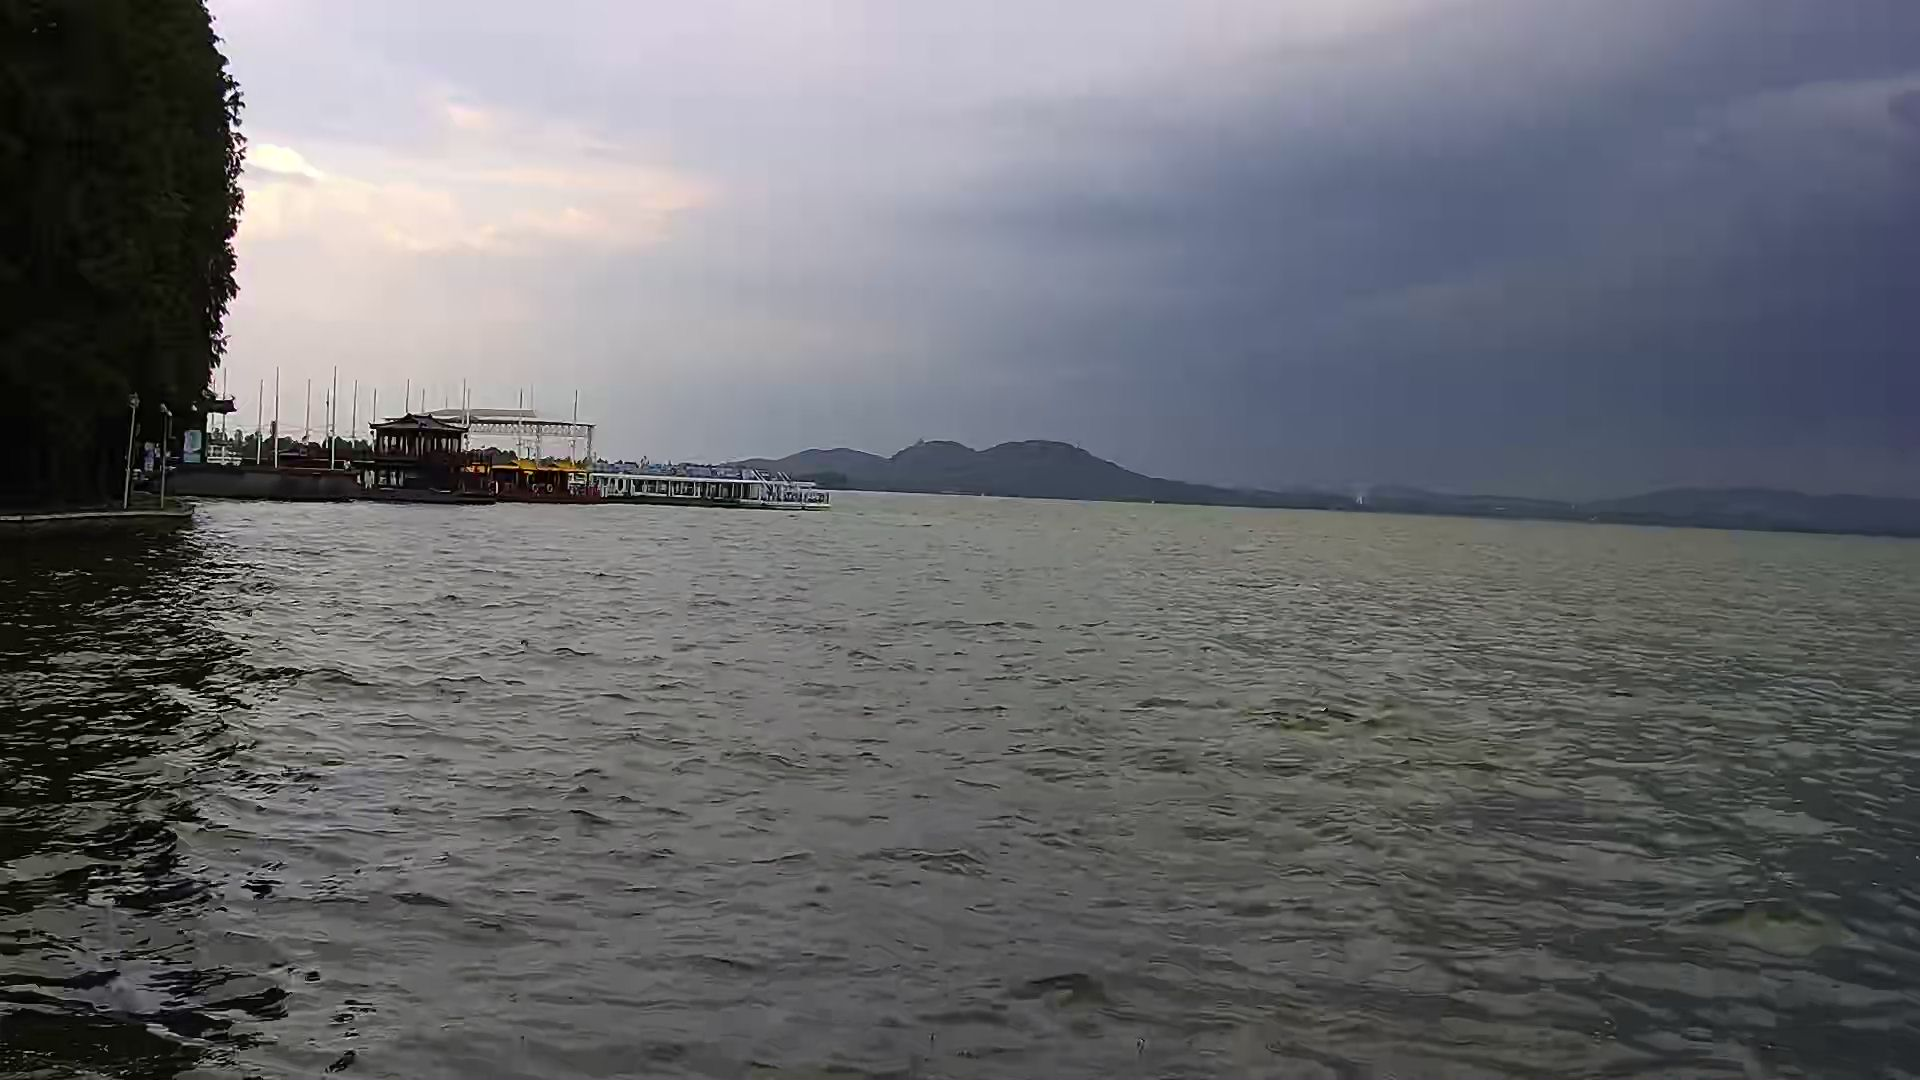boat: (609, 462, 827, 522)
harbor: (182, 458, 367, 500)
